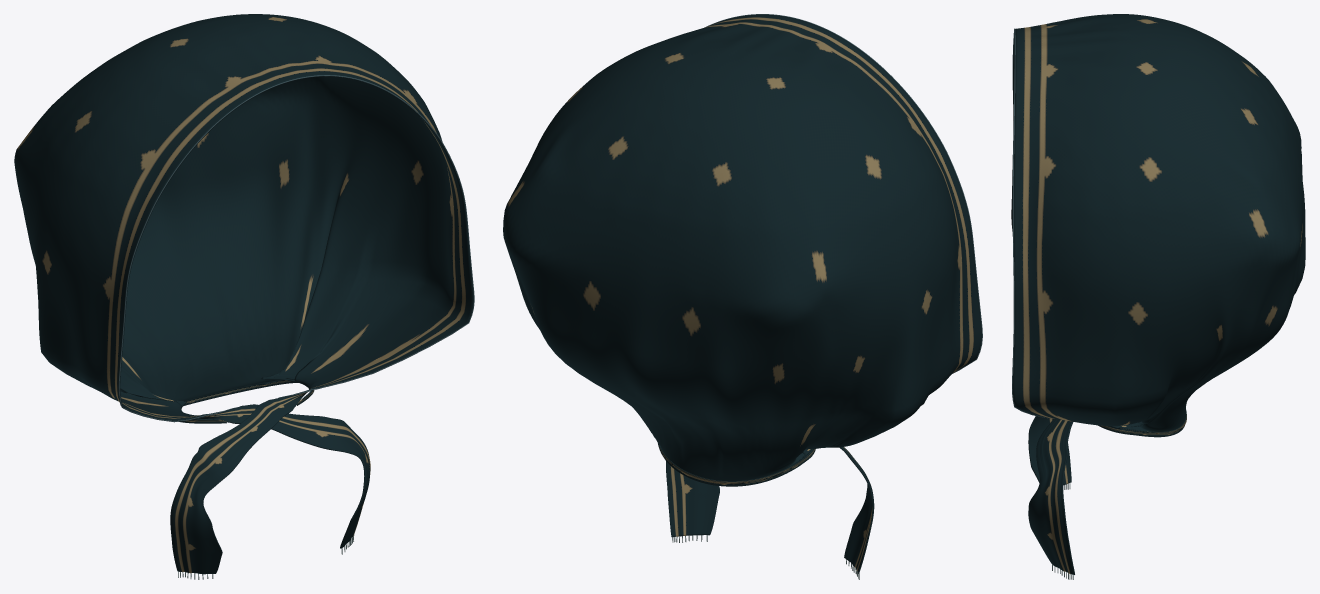
File: Feminine-space-buns-tshirt-pashmina249-headgear.glb
3 renders of one model, left to right at view 1: azimuth 30°, elevation 25°; view 2: azimuth 150°, elevation 25°; view 3: azimuth 270°, elevation 25°, orthographic. The views are drawn at different scales.
Visible parts, largest first — view 1: 226 headgear / Headwear / continuous woven pashmina239, 226 headgear / Headwear / face edge239; view 2: 226 headgear / Headwear / continuous woven pashmina239, 226 headgear / Headwear / face edge239; view 3: 226 headgear / Headwear / continuous woven pashmina239, 226 headgear / Headwear / face edge239.
Part boxes in pixels (<box>): 226 headgear / Headwear / continuous woven pashmina239: <box>14,14,473,574</box>; 226 headgear / Headwear / face edge239: <box>118,75,474,422</box>; 226 headgear / Headwear / continuous woven pashmina239: <box>503,14,981,573</box>; 226 headgear / Headwear / face edge239: <box>704,14,982,373</box>; 226 headgear / Headwear / continuous woven pashmina239: <box>1011,14,1305,574</box>; 226 headgear / Headwear / face edge239: <box>1011,28,1050,418</box>.
Size of the model in its own units: 1.05 by 1.36 by 0.7241.
Materials: 3 (1 with a texture image).
